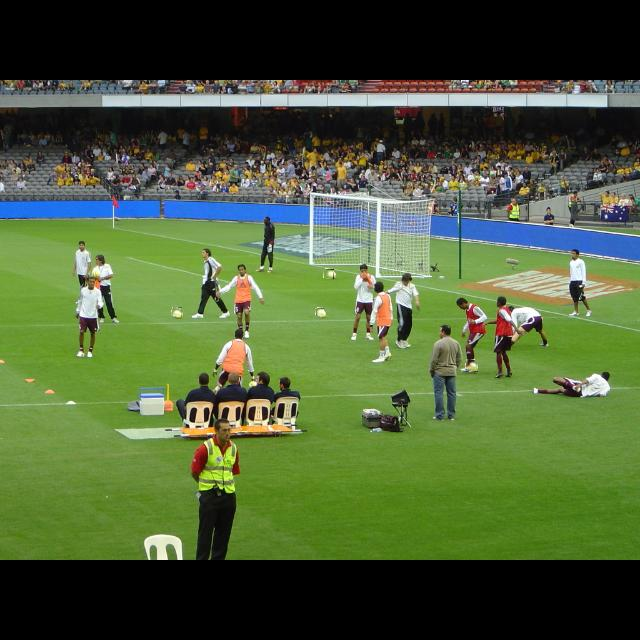Football: (466, 360, 478, 372), (172, 307, 182, 317), (324, 269, 334, 279), (316, 308, 324, 316)
